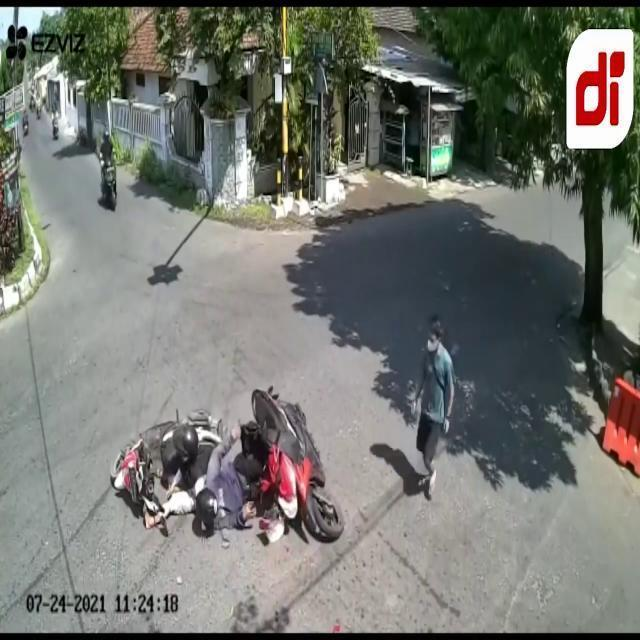accident: (112, 389, 346, 541), (249, 390, 345, 542), (113, 420, 214, 510)
